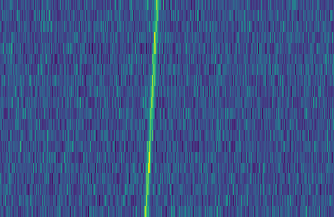signal: (140, 0, 161, 217)
